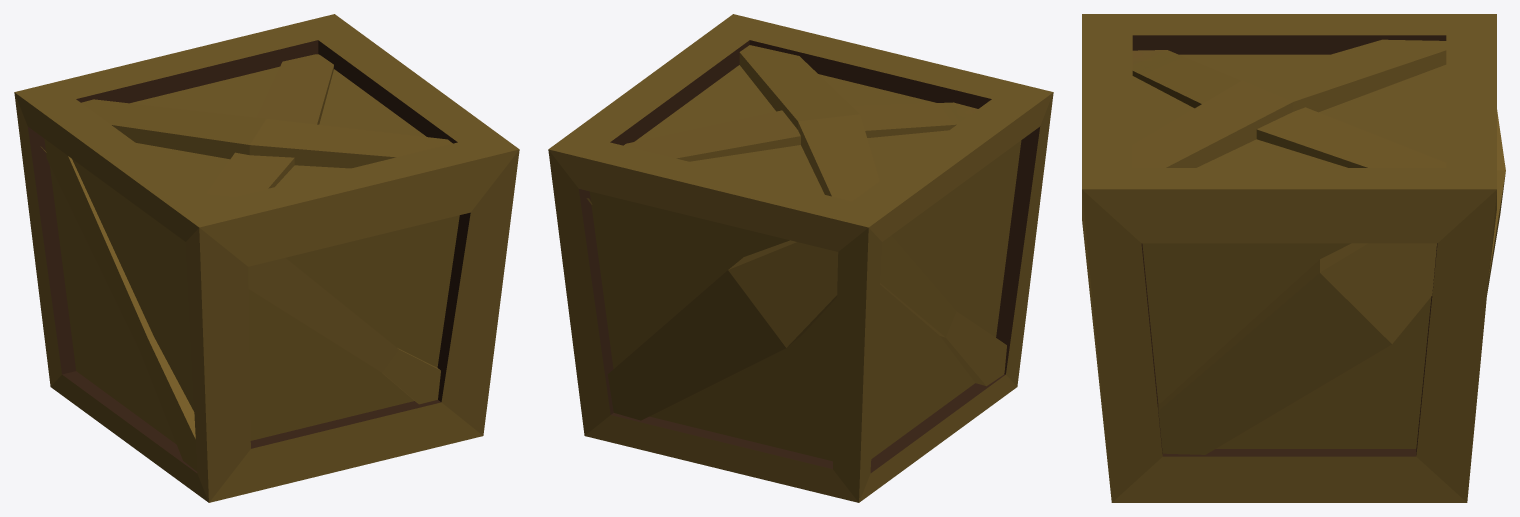
Rendered from Caixa2.fbx.
3 views of the same model, side by side, from view 1: azimuth 30°, elevation 25°; view 2: azimuth 150°, elevation 25°; view 3: azimuth 270°, elevation 25° (orthographic). The views are drawn at different scales.
Visible parts, largest first — view 1: Caixa2; view 2: Caixa2; view 3: Caixa2.
Part boxes in pixels (x1,y1,x2,y2): Caixa2: (14, 14, 519, 502); Caixa2: (548, 14, 1053, 502); Caixa2: (1082, 14, 1505, 502).
Bounding box in the file's own units: 107 × 91.75 × 108.
